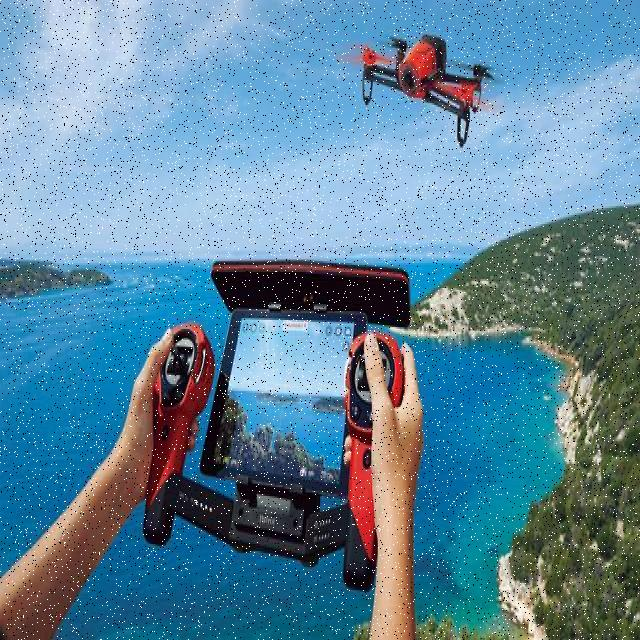UAV: (355, 21, 495, 151)
